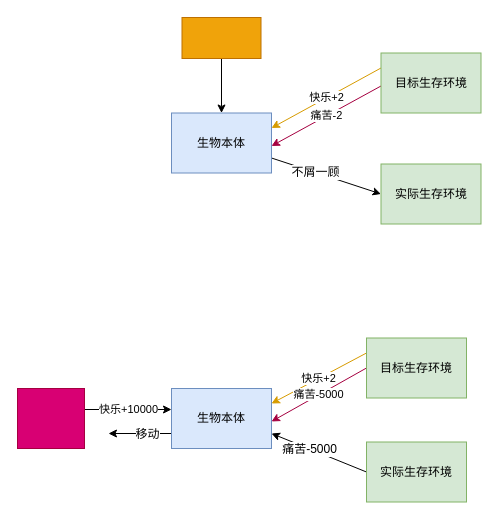
Image size: 499x520. Some labels were removed from this diagram. Each missing label, with the centre of its shape:
人造快乐: (221,37)
奶头乐: (50,418)
